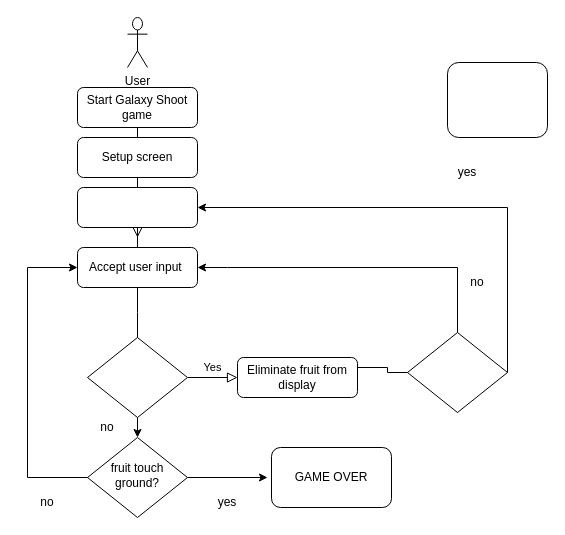
The diagram is 565 pixels wide and 535 high, and some of its shapes have lost their labels. Here are the shapes that lost their labels. From the top down, the box of each, then its label:
(446, 62, 548, 138): At any time, user can quit game by clicking windows X button
(76, 186, 198, 228): Reset screen and display fruits
(86, 336, 188, 418): If fruit match
(406, 332, 508, 412): All fruits done?
